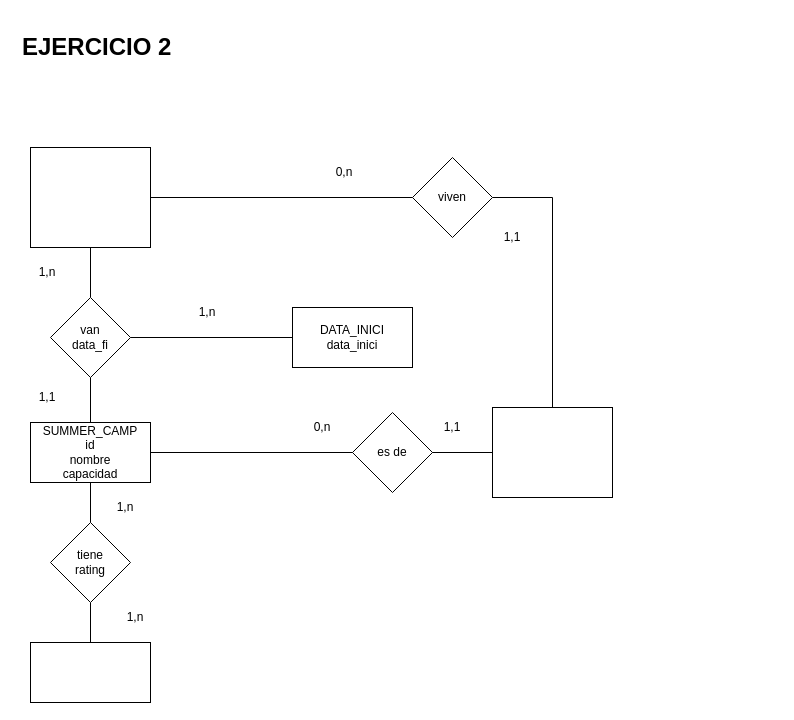
This 794x720 diagram has some shape labels left out. Each missing label, with the box of its shape:
ACTIVIDADES id nombre: (30, 642, 150, 702)
NIÑOS id nombre apellido1 apellido2(op) telefono_padres: (30, 146, 150, 248)
REGION id nombre area habitantes: (492, 406, 612, 498)
